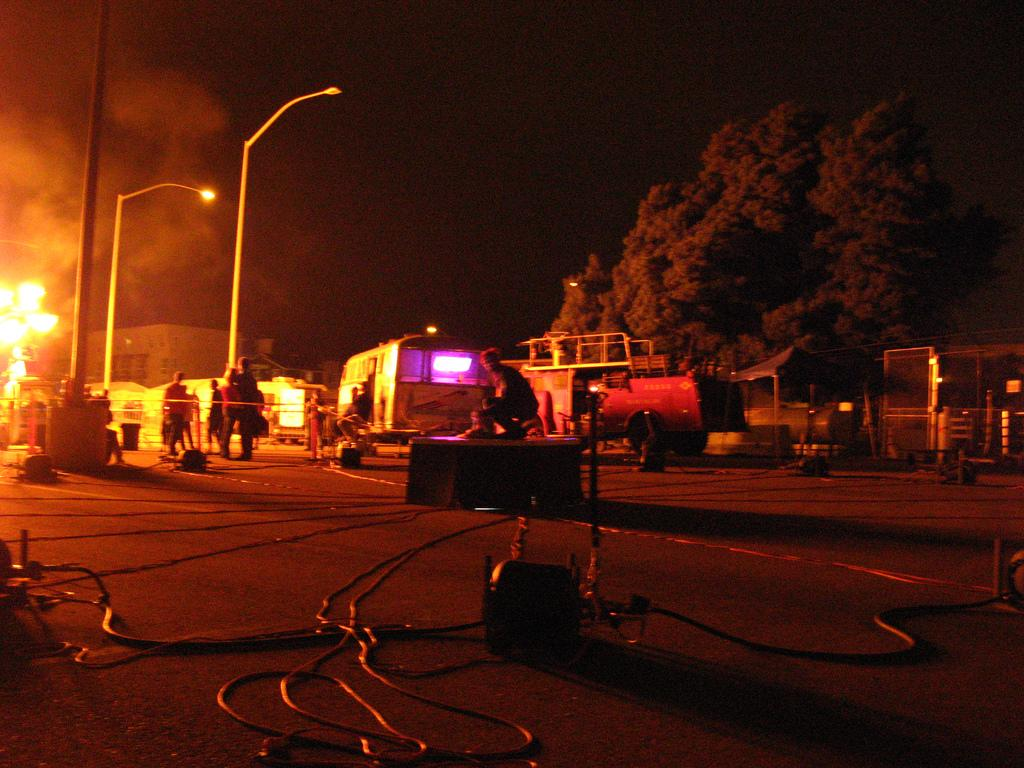fire: (0, 290, 54, 384)
